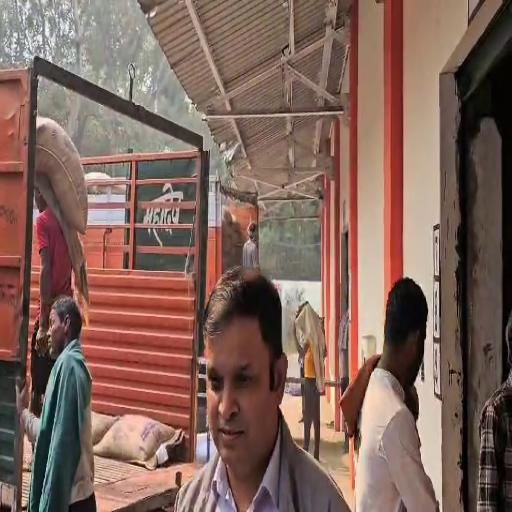bag: (34, 116, 88, 237)
